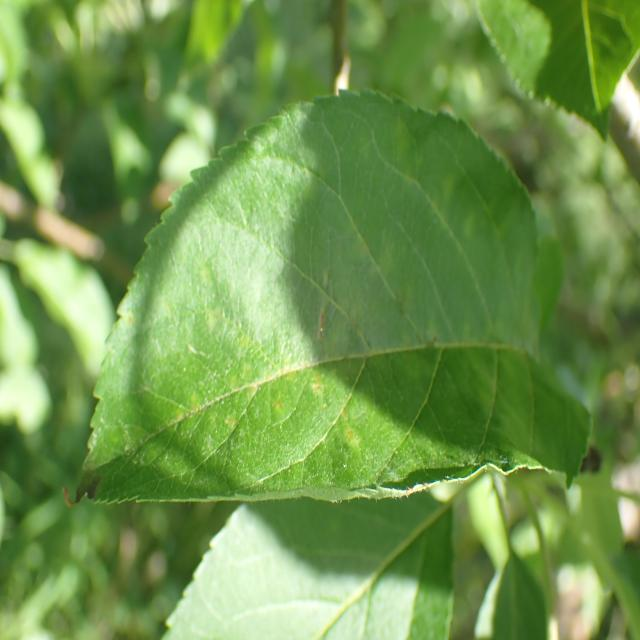scab: (114, 230, 591, 478)
